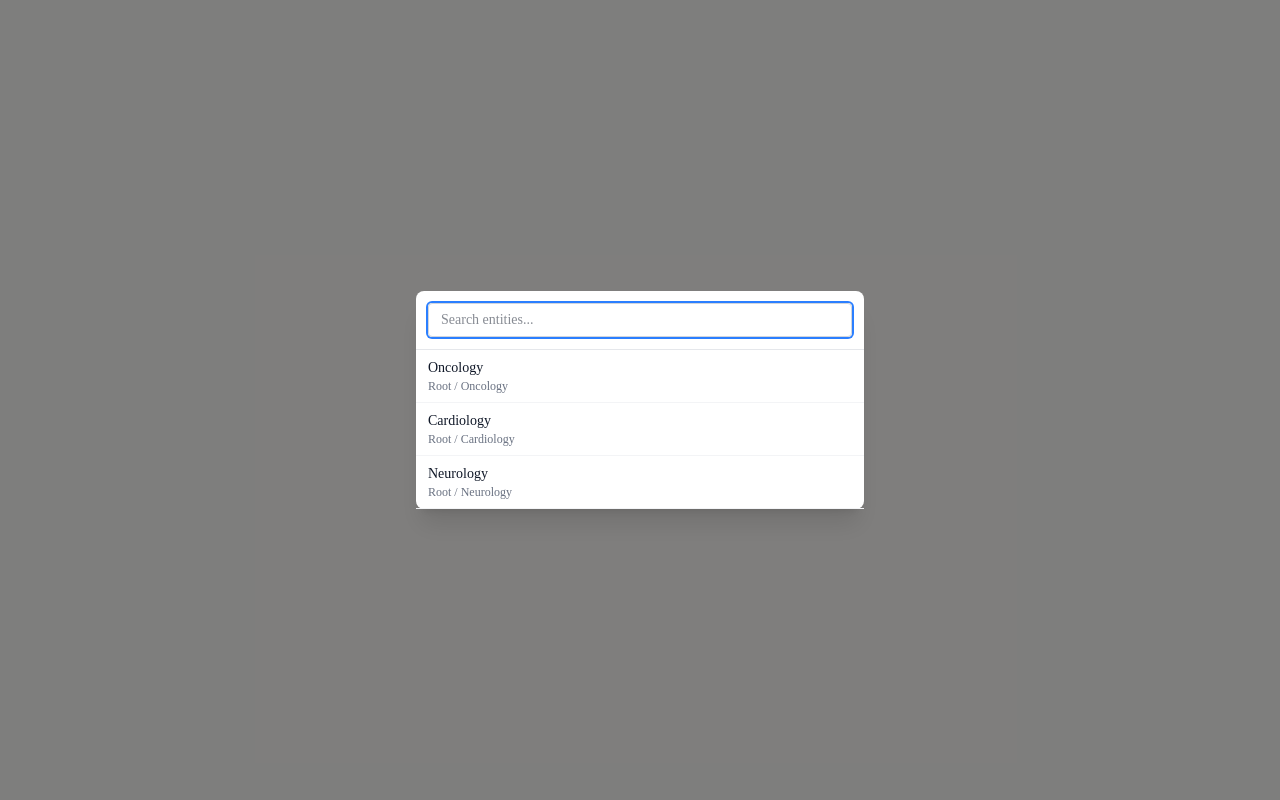
EntityPickerModal › shows no results message when search has no matches
Type "zzzzz" into the field with placeholder "Search entities...". click: (640, 320)
box: [428,303,852,337]
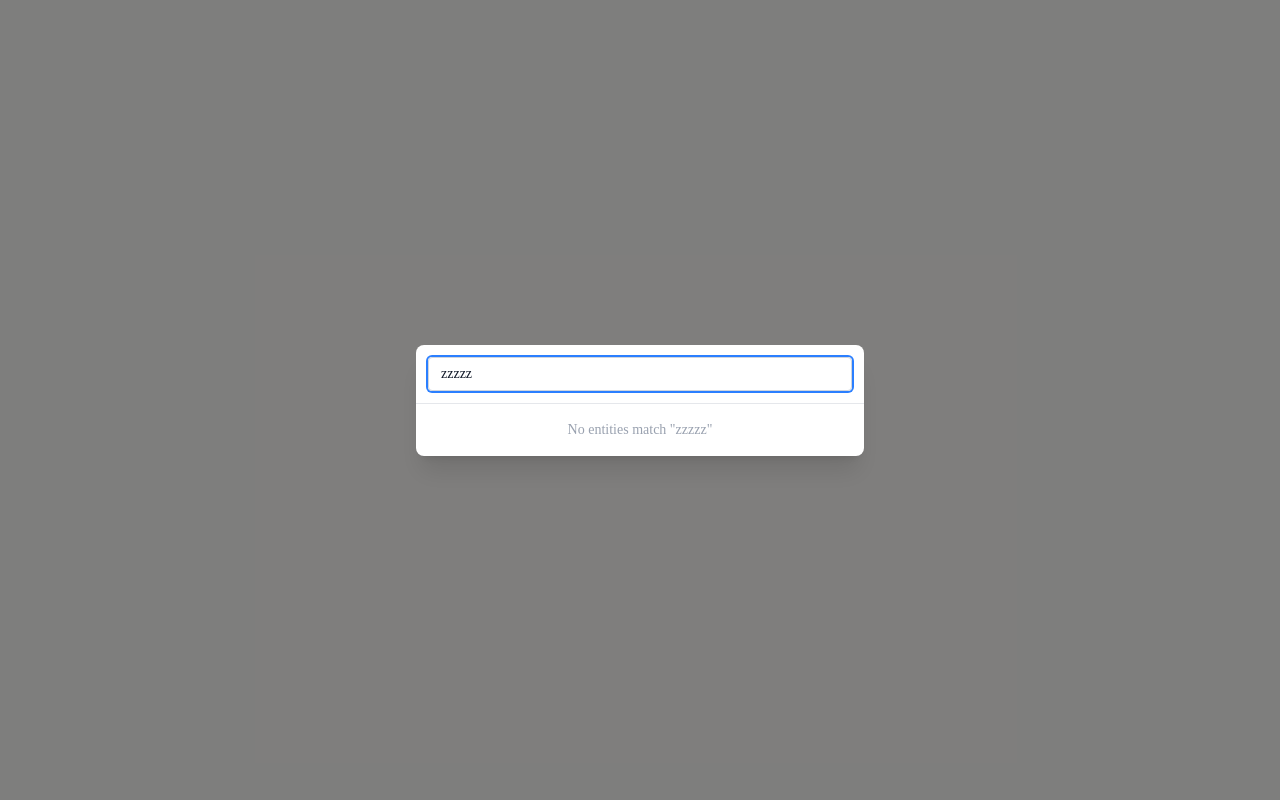
Now the text "No entities match \"zzzzz\"" is shown, box [568,422,712,436]
